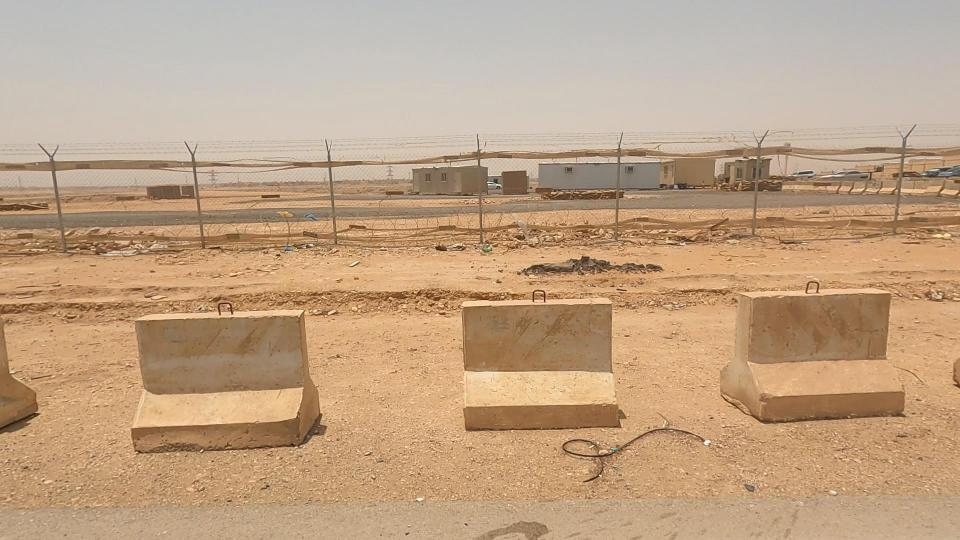GARBAGE: (465, 354, 754, 539), (80, 222, 158, 279), (255, 223, 339, 269), (129, 218, 187, 273), (457, 220, 517, 271), (411, 226, 483, 265), (281, 195, 335, 233), (261, 186, 301, 233), (330, 244, 372, 283)
